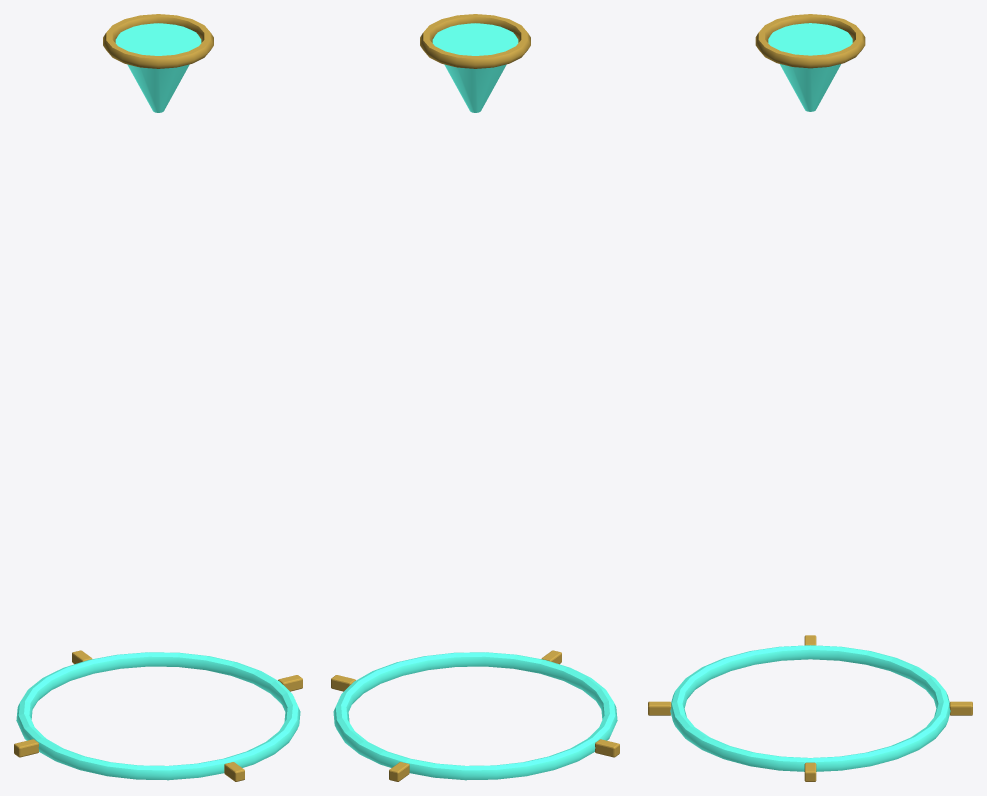
The model's file is WallHabitat_SelectionHalo.fbx.
3 views of the same model, side by side, from view 1: azimuth 30°, elevation 25°; view 2: azimuth 150°, elevation 25°; view 3: azimuth 270°, elevation 25° (orthographic).
Parts seen in each view (by area): view 1: WallHabitat_SelectionHalo_GroundRing, WallHabitat_SelectionHalo_Pointer; view 2: WallHabitat_SelectionHalo_GroundRing, WallHabitat_SelectionHalo_Pointer; view 3: WallHabitat_SelectionHalo_GroundRing, WallHabitat_SelectionHalo_Pointer.
Boxes of the visible parts, bbox=[...] form: WallHabitat_SelectionHalo_GroundRing: bbox=[14, 650, 302, 781]; WallHabitat_SelectionHalo_Pointer: bbox=[103, 14, 213, 112]; WallHabitat_SelectionHalo_GroundRing: bbox=[331, 650, 619, 781]; WallHabitat_SelectionHalo_Pointer: bbox=[420, 14, 530, 112]; WallHabitat_SelectionHalo_GroundRing: bbox=[648, 635, 972, 781]; WallHabitat_SelectionHalo_Pointer: bbox=[755, 14, 865, 111].
Bounding box in the file's own units: 11.2 × 25.85 × 11.2.
